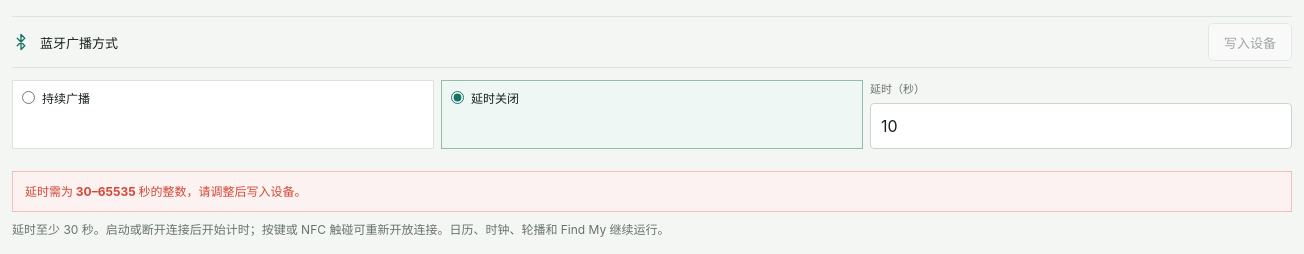
Test: allows the upper boundary and leaves continuous advertising available for an old short delay
Earlier steps of the test are not shown.
Later steps or results of the test are not shown.
Step 1. Click the radio button labelled "持续广播" → (28, 98), box [22,91,35,104]
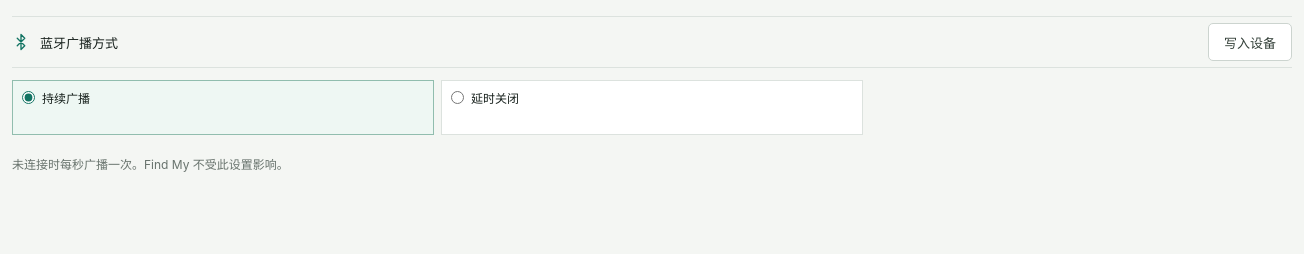
expect the button "写入设备" is enabled: met, box [1208,23,1292,61]
